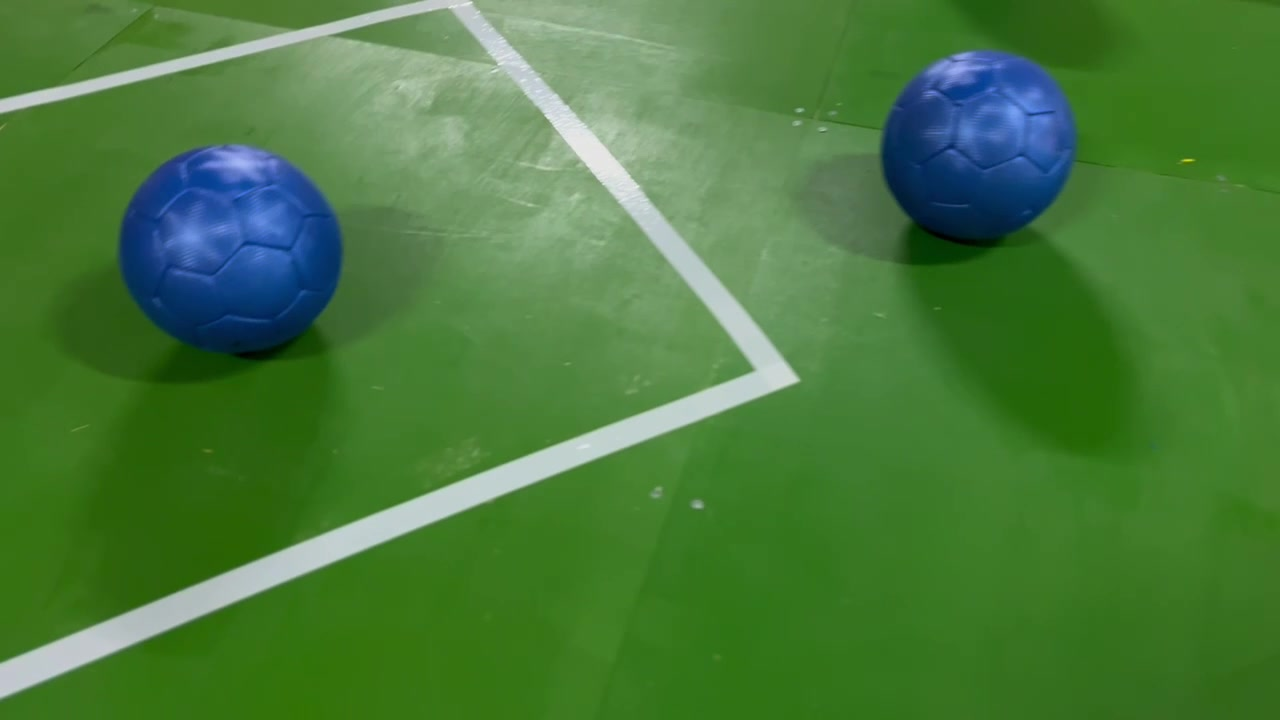blue: (115, 144, 349, 361), (883, 47, 1086, 235)
